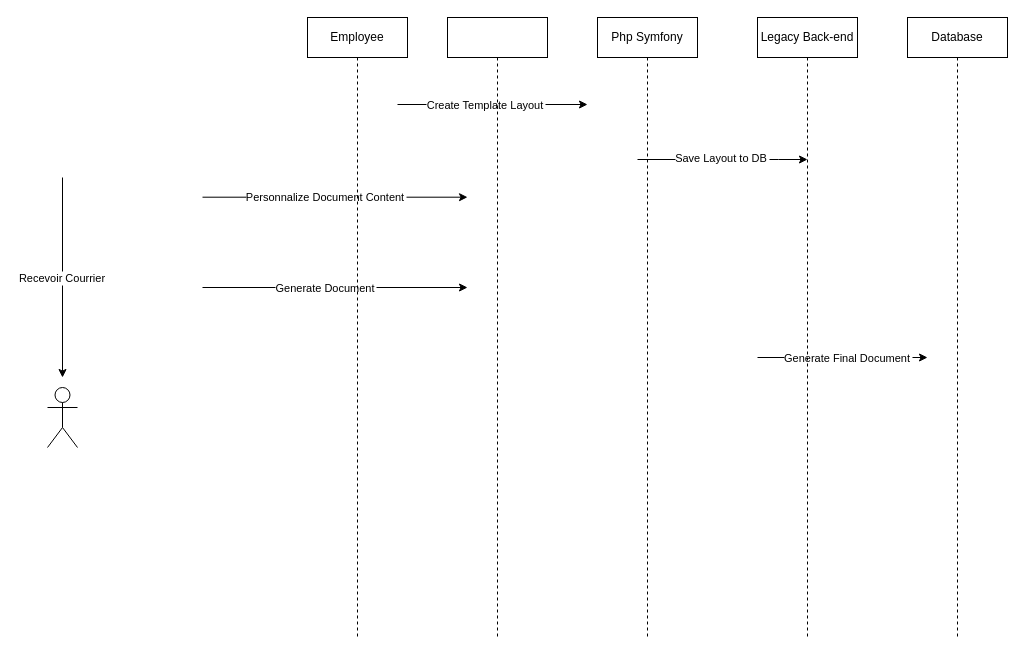
This 1025x655 diagram has some shape labels left out. The shapes that lost their labels are listed below. From the top down, each one's box as (x1, y1, x2, y2) in pixels, then its label:
(446, 16, 548, 638): React Front-End
(46, 386, 78, 448): Aidé
